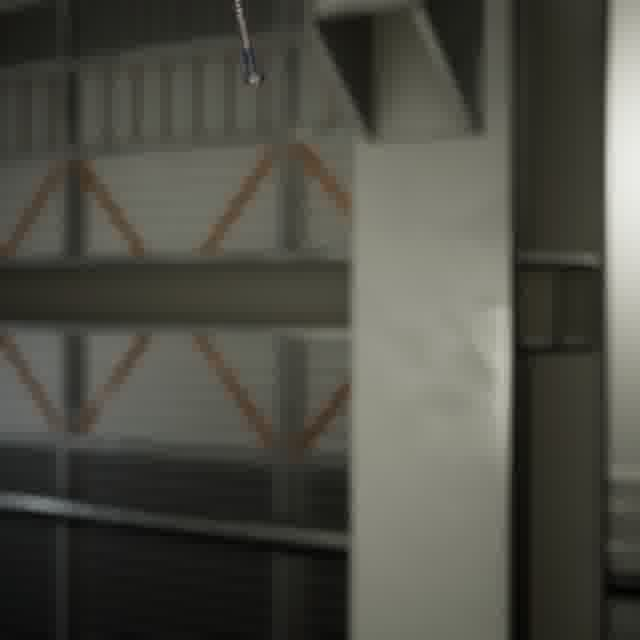bolt: (229, 0, 268, 88)
